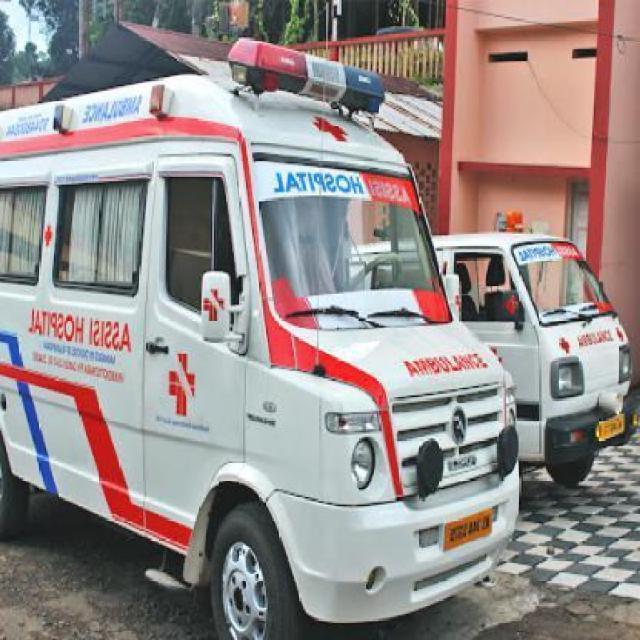emergency: (1, 27, 524, 639), (455, 224, 640, 459)
